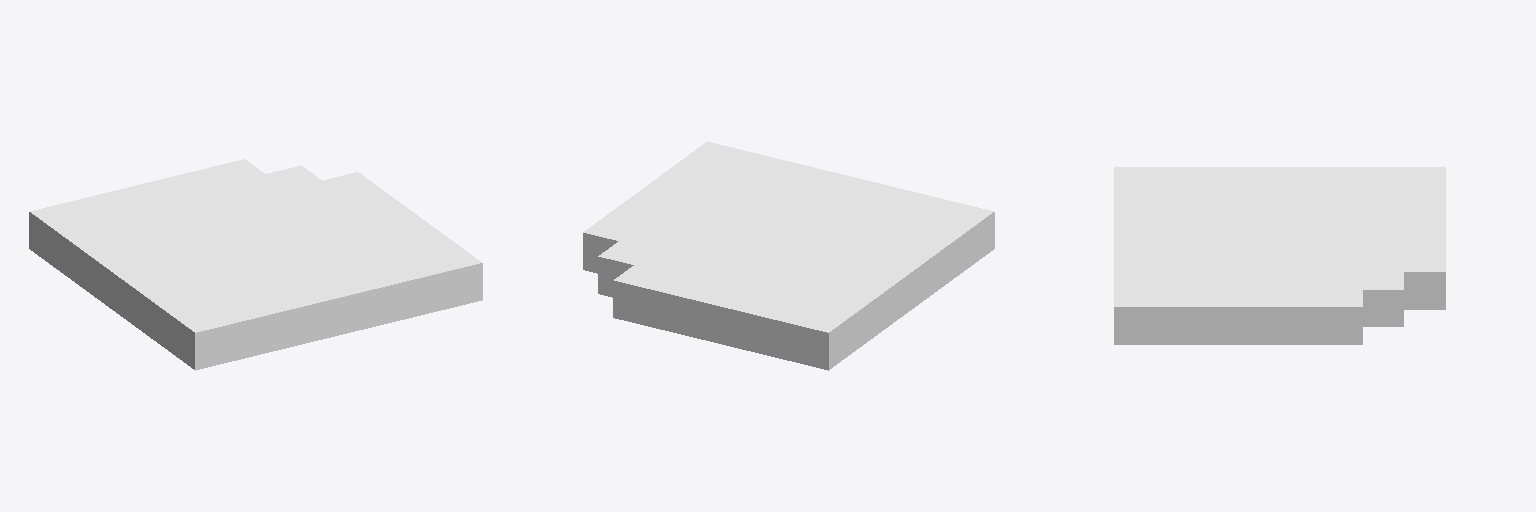
File: lilypad.vox.obj
3 views of the same model, side by side, from view 1: azimuth 30°, elevation 25°; view 2: azimuth 150°, elevation 25°; view 3: azimuth 270°, elevation 25° (orthographic).
Visible parts, largest first — view 1: object 1; view 2: object 1; view 3: object 1.
Boxes of the visible parts, x1=… form: object 1: x1=29, y1=159, x2=482, y2=370; object 1: x1=583, y1=141, x2=994, y2=370; object 1: x1=1114, y1=167, x2=1445, y2=344.
Size of the model in its own units: 0.8 by 0.1 by 0.8.